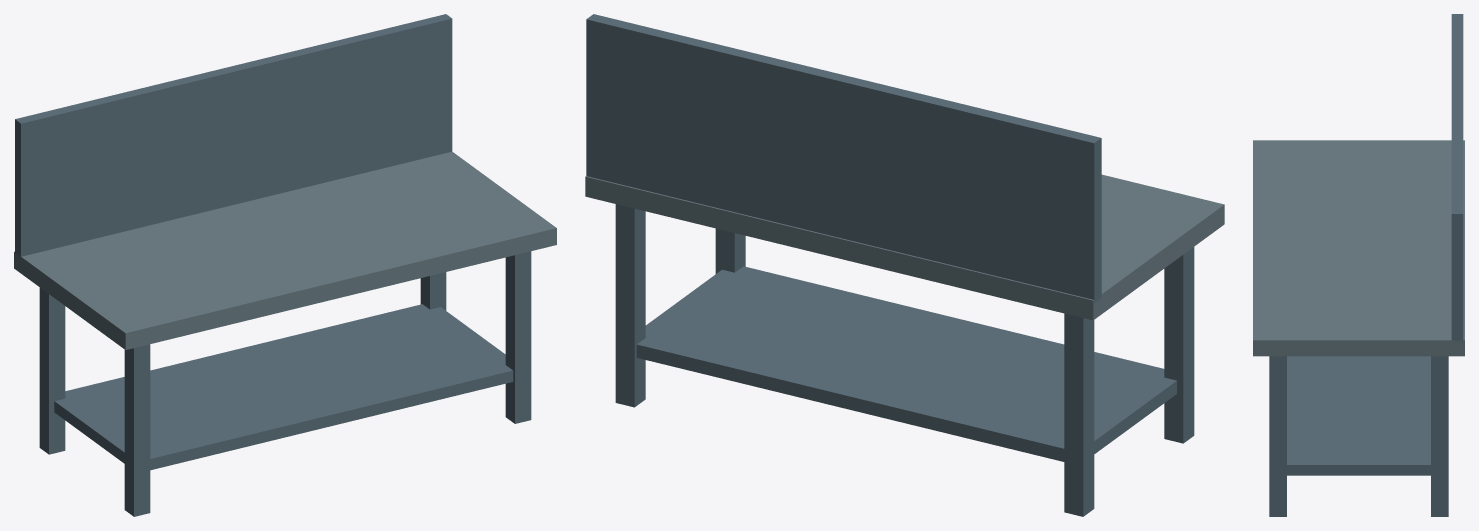
Rendered from workbench_lod2.glb.
The picture shows the model from 3 angles, left to right: view 1: azimuth 30°, elevation 25°; view 2: azimuth 150°, elevation 25°; view 3: azimuth 270°, elevation 25°; orthographic projection. The views are drawn at different scales.
Parts seen in each view (by area): view 1: BENCH_BACK_MAT_METAL_DARK, BENCH_TOP_MAT_BENCH_TOP, LOWER_SHELF_MAT_METAL_DARK, LEG_-2.12_0.82_MAT_METAL_DARK, LEG_2.12_0.82_MAT_METAL_DARK, LEG_-2.12_-0.82_MAT_METAL_DARK, LEG_2.12_-0.82_MAT_METAL_DARK; view 2: BENCH_BACK_MAT_METAL_DARK, LOWER_SHELF_MAT_METAL_DARK, BENCH_TOP_MAT_BENCH_TOP, LEG_-2.12_-0.82_MAT_METAL_DARK, LEG_2.12_-0.82_MAT_METAL_DARK, LEG_-2.12_0.82_MAT_METAL_DARK, LEG_2.12_0.82_MAT_METAL_DARK; view 3: BENCH_TOP_MAT_BENCH_TOP, LOWER_SHELF_MAT_METAL_DARK, BENCH_BACK_MAT_METAL_DARK, LEG_2.12_-0.82_MAT_METAL_DARK, LEG_2.12_0.82_MAT_METAL_DARK.
Part boxes in pixels (left/top/right/bottom): BENCH_BACK_MAT_METAL_DARK: left=15, top=14, right=452, bottom=256; BENCH_TOP_MAT_BENCH_TOP: left=14, top=151, right=556, bottom=349; LOWER_SHELF_MAT_METAL_DARK: left=54, top=304, right=513, bottom=470; LEG_-2.12_0.82_MAT_METAL_DARK: left=124, top=344, right=150, bottom=516; LEG_2.12_0.82_MAT_METAL_DARK: left=505, top=251, right=531, bottom=423; LEG_-2.12_-0.82_MAT_METAL_DARK: left=39, top=287, right=65, bottom=454; LEG_2.12_-0.82_MAT_METAL_DARK: left=420, top=272, right=446, bottom=310; BENCH_BACK_MAT_METAL_DARK: left=586, top=14, right=1101, bottom=303; LOWER_SHELF_MAT_METAL_DARK: left=636, top=266, right=1176, bottom=461; BENCH_TOP_MAT_BENCH_TOP: left=585, top=174, right=1224, bottom=320; LEG_-2.12_-0.82_MAT_METAL_DARK: left=1064, top=313, right=1094, bottom=516; LEG_2.12_-0.82_MAT_METAL_DARK: left=615, top=204, right=645, bottom=407; LEG_-2.12_0.82_MAT_METAL_DARK: left=1164, top=247, right=1194, bottom=443; LEG_2.12_0.82_MAT_METAL_DARK: left=715, top=228, right=745, bottom=273; BENCH_TOP_MAT_BENCH_TOP: left=1253, top=140, right=1464, bottom=356; LOWER_SHELF_MAT_METAL_DARK: left=1287, top=356, right=1430, bottom=475; BENCH_BACK_MAT_METAL_DARK: left=1451, top=14, right=1463, bottom=343; LEG_2.12_-0.82_MAT_METAL_DARK: left=1431, top=356, right=1448, bottom=516; LEG_2.12_0.82_MAT_METAL_DARK: left=1269, top=356, right=1286, bottom=516.
Size of the model in its own units: 4.8 by 3.48 by 2.15.
